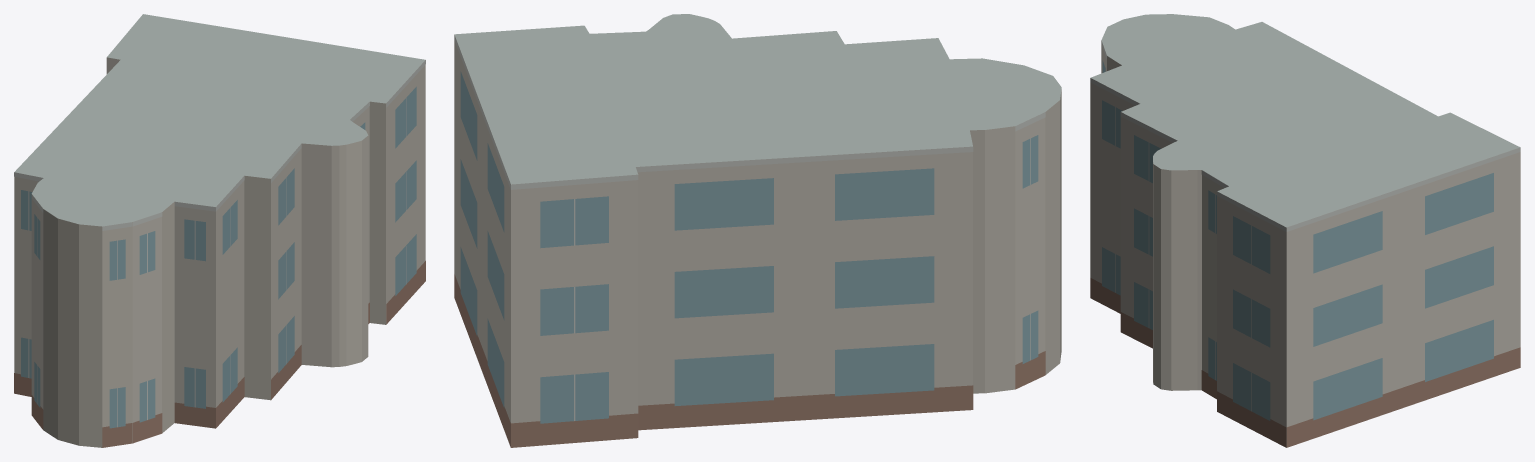
Rendered from survey-upis-32501958.glb.
3 renders of one model, left to right at view 1: azimuth 30°, elevation 25°; view 2: azimuth 150°, elevation 25°; view 3: azimuth 270°, elevation 25°, orthographic. The views are drawn at different scales.
Parts seen in each view (by area): view 1: survey-upis-32501958.tmp; view 2: survey-upis-32501958.tmp; view 3: survey-upis-32501958.tmp.
Boxes of the visible parts, x1=… form: survey-upis-32501958.tmp: x1=14, y1=14, x2=425, y2=447; survey-upis-32501958.tmp: x1=454, y1=14, x2=1061, y2=447; survey-upis-32501958.tmp: x1=1090, y1=14, x2=1520, y2=447.
Bounding box in the file's own units: 24.74 × 11.9 × 21.06.
